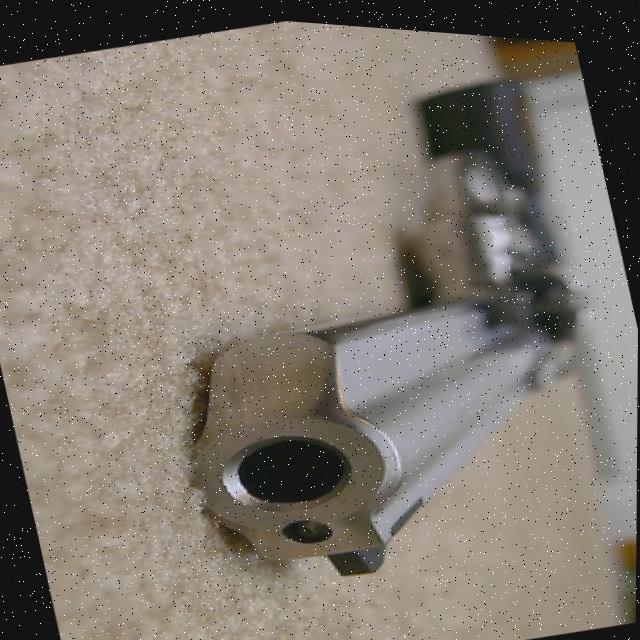pistol: (114, 38, 637, 619)
